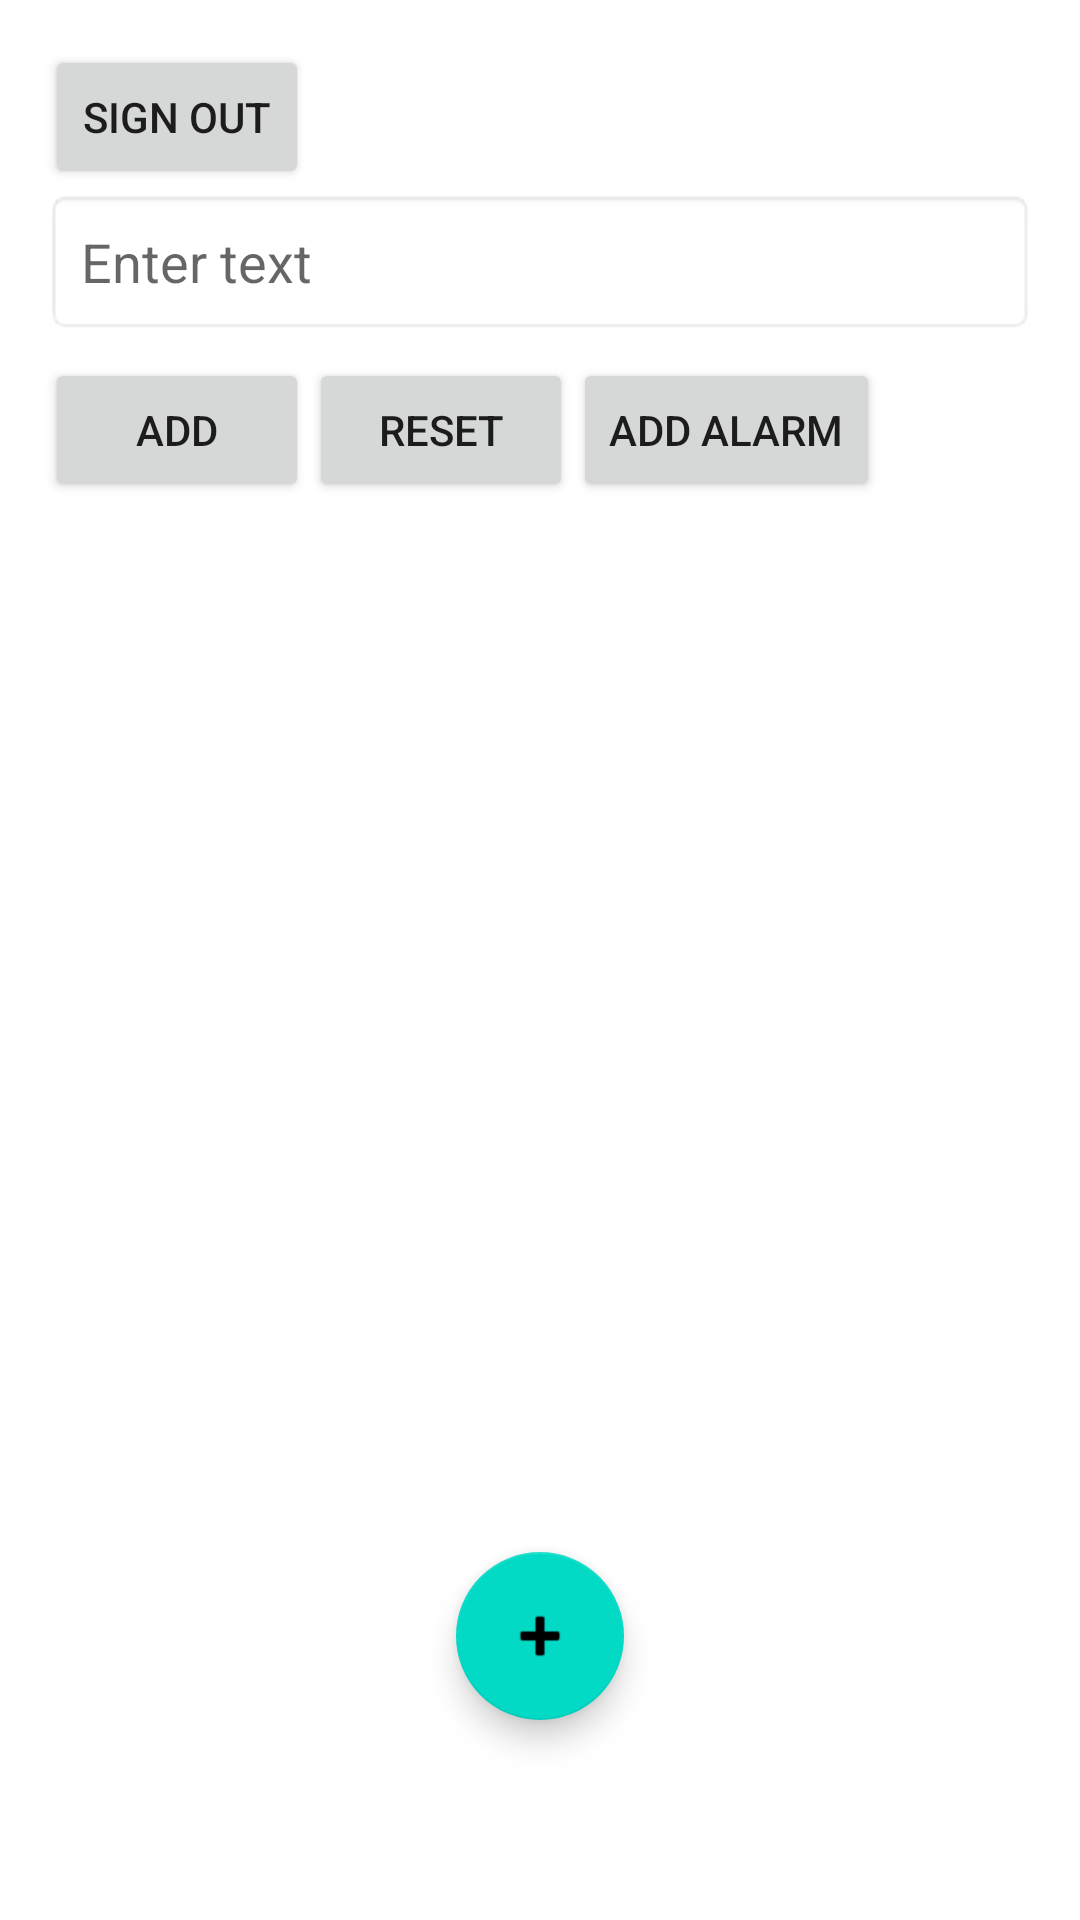

Screen size 1080×1920. Icon name, then its box in pixels as (x1, y1, x2, y2):
add: (456, 1552, 624, 1720)
